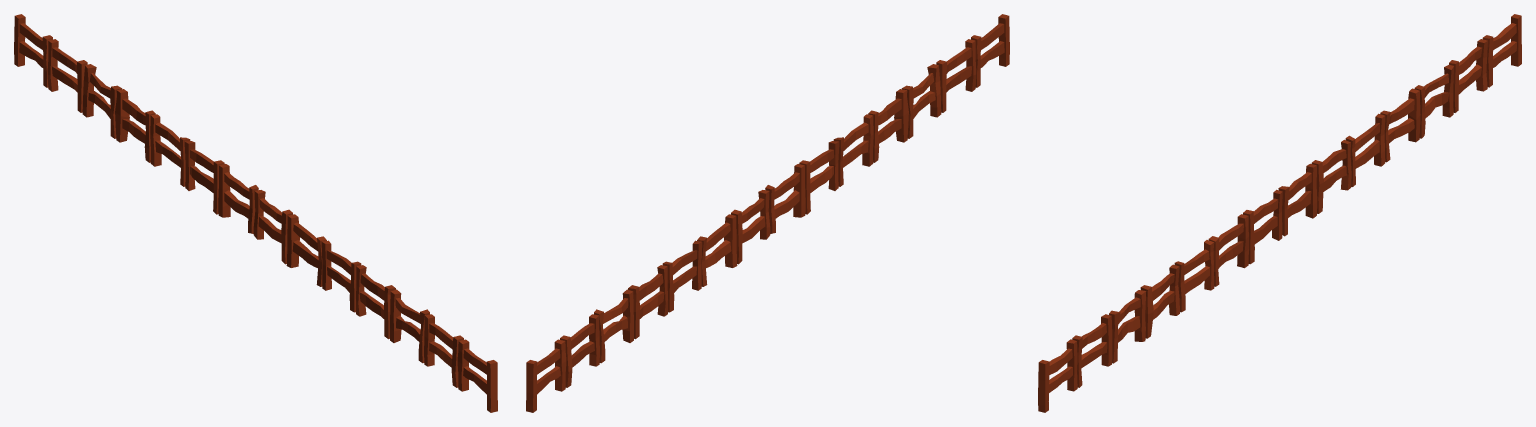
The model's file is płotki.fbx.
3 views of the same model, side by side, from view 1: azimuth 30°, elevation 25°; view 2: azimuth 150°, elevation 25°; view 3: azimuth 330°, elevation 25° (orthographic).
Visible parts, largest first — view 1: Cube; view 2: Cube; view 3: Cube.
Boxes of the visible parts, left/top/right/bottom form: Cube: left=14, top=14, right=497, bottom=412; Cube: left=526, top=14, right=1009, bottom=412; Cube: left=1038, top=14, right=1521, bottom=412.
Bounding box in the file's own units: 39.4 × 172 × 2935.
